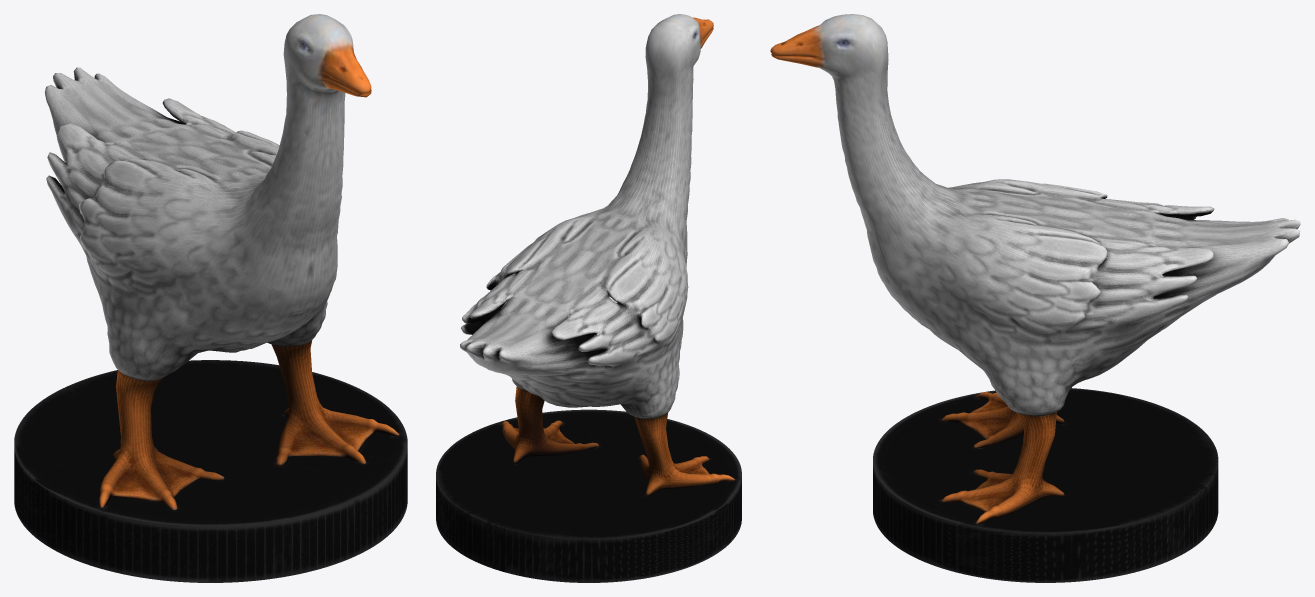
The model's file is MZ4250 - Goose (White).glb.
3 views of the same model, side by side, from view 1: azimuth 30°, elevation 25°; view 2: azimuth 150°, elevation 25°; view 3: azimuth 270°, elevation 25° (orthographic). The views are drawn at different scales.
Parts seen in each view (by area): view 1: model_low.001, base_low.001; view 2: model_low.001, base_low.001; view 3: model_low.001, base_low.001.
Part boxes in pixels (left/top/right/bottom): model_low.001: left=45, top=14, right=399, bottom=509; base_low.001: left=14, top=360, right=407, bottom=582; model_low.001: left=460, top=14, right=734, bottom=495; base_low.001: left=436, top=409, right=741, bottom=582; model_low.001: left=770, top=14, right=1300, bottom=523; base_low.001: left=873, top=388, right=1218, bottom=582.
Size of the model in its own units: 1.39 by 2.19 by 2.13.
Materials: 1 (1 with a texture image).
